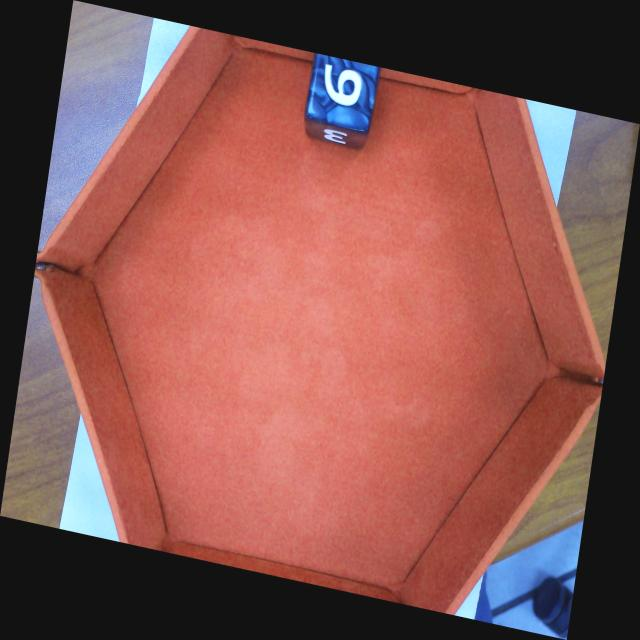dice: (304, 50, 381, 135)
